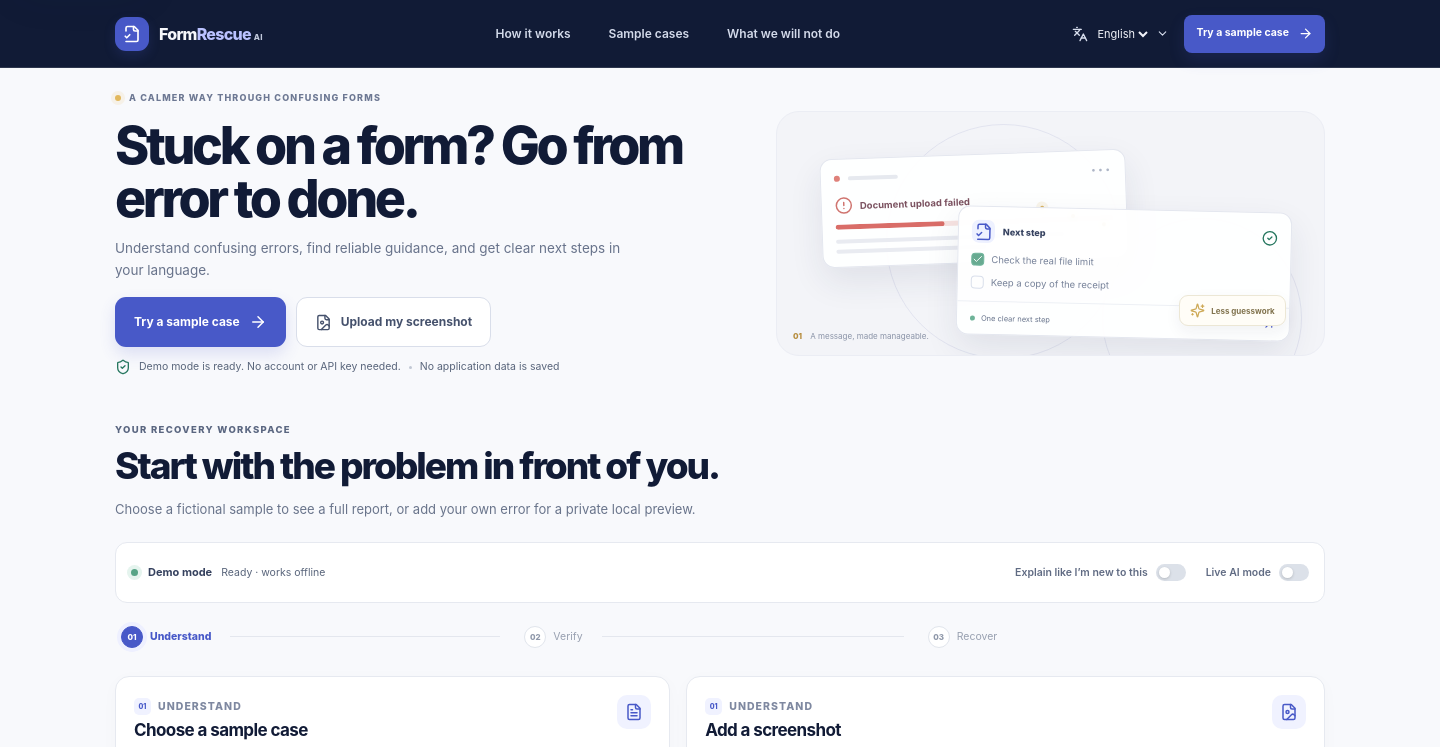
Test: FormRescue user workflows › switches report scenarios and preserves their evidence distinction
Click the button "Try a sample case" in the row of "Sample cases" at (1255, 34), box [1184,14,1325,52]
(page scrolled)
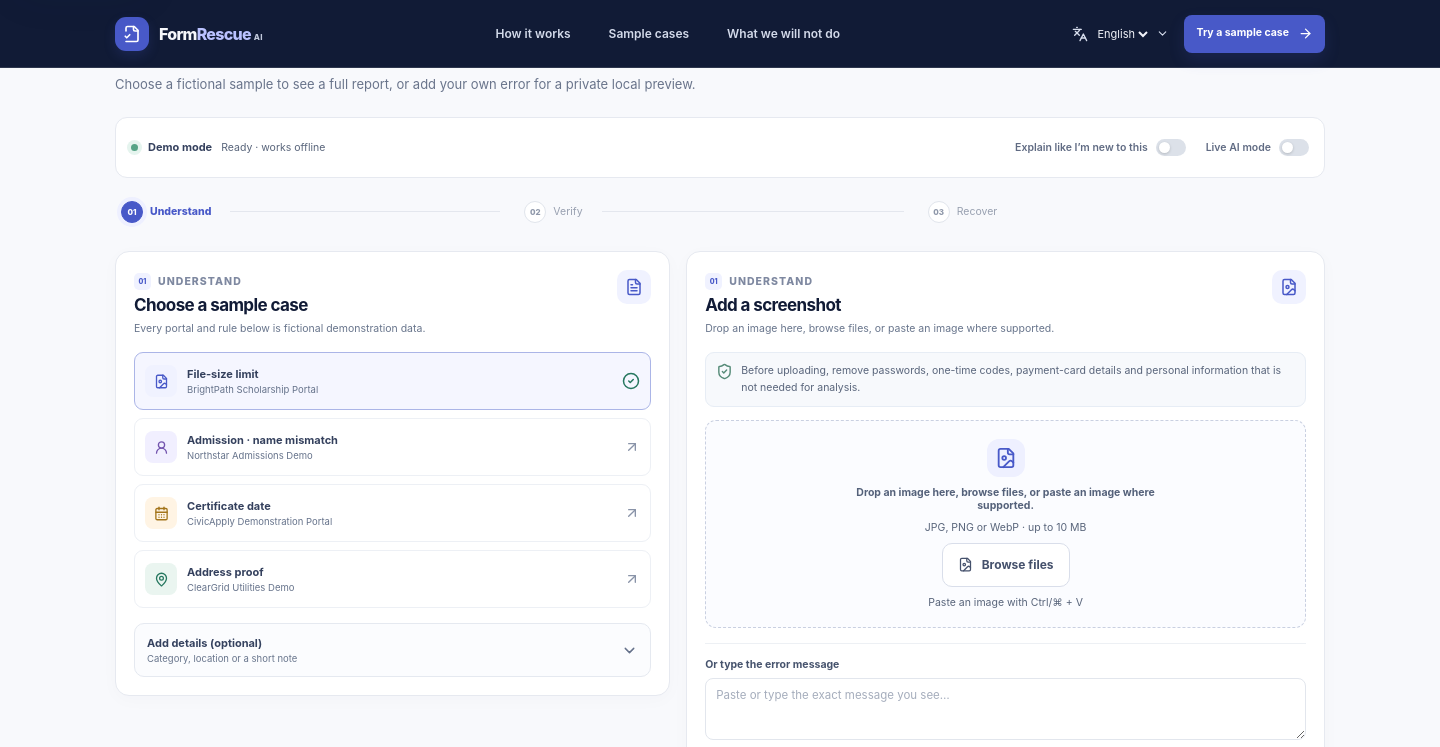
Click the button "Admission · name mismatch Northstar Admissions Demo" at (161, 447), box [134,418,651,476]
(page scrolled)
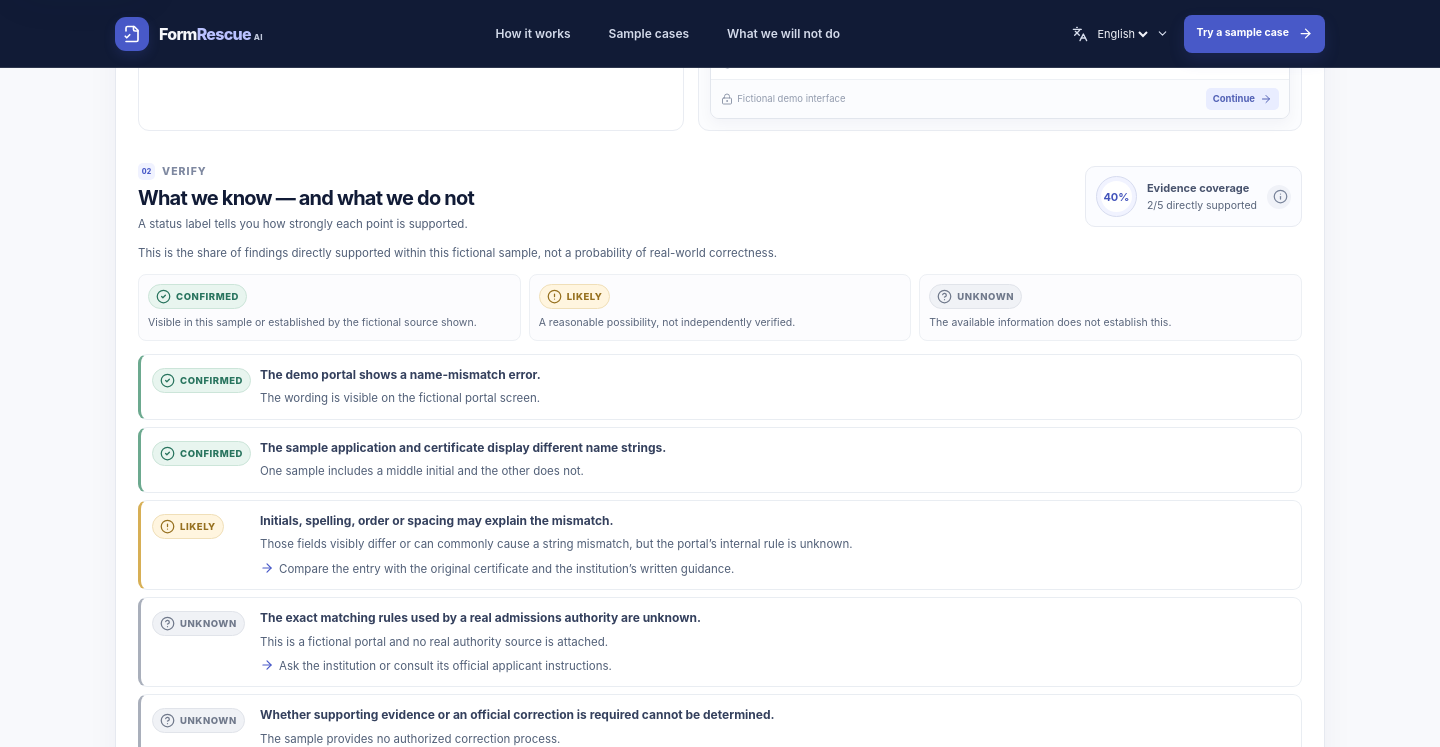
Result: the heading "The sample application and certificate display different name strings." is shown at [260,440,666,455]
